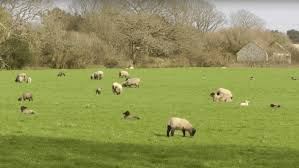sheep: (166, 116, 194, 141), (209, 91, 236, 108), (20, 105, 41, 118), (16, 90, 35, 104), (216, 84, 235, 97), (124, 78, 143, 91), (92, 70, 109, 83), (11, 73, 27, 84), (111, 82, 125, 94), (119, 69, 129, 79), (94, 86, 101, 97), (57, 71, 68, 78), (25, 76, 32, 86)
